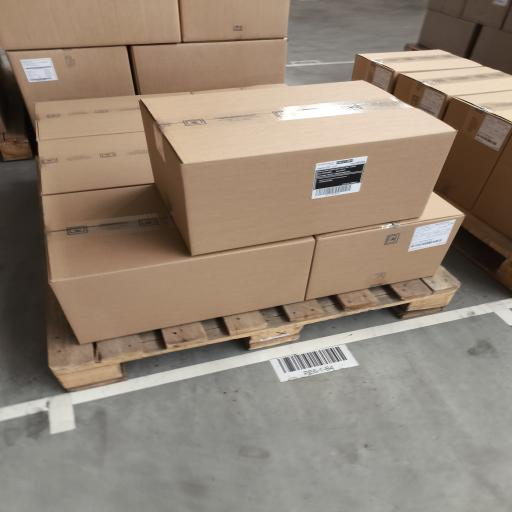pallet: (47, 268, 459, 390), (437, 192, 511, 290), (0, 50, 32, 161), (0, 133, 32, 161), (404, 44, 430, 51)
